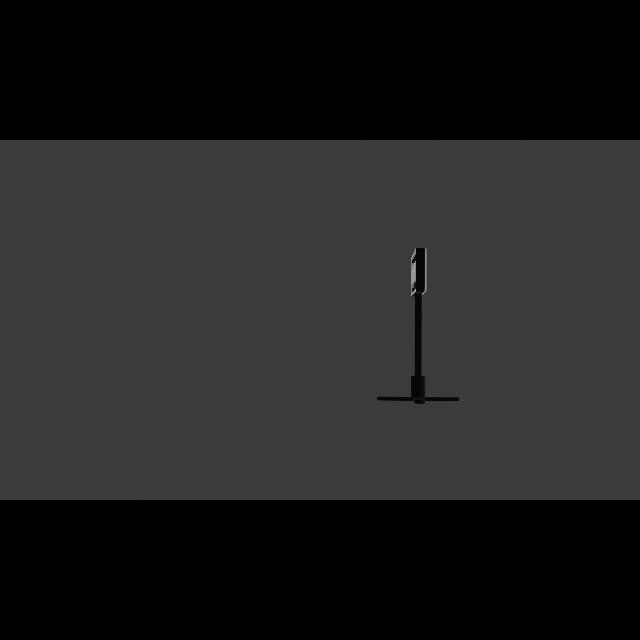sign_oneway_left: (411, 248, 428, 298)
